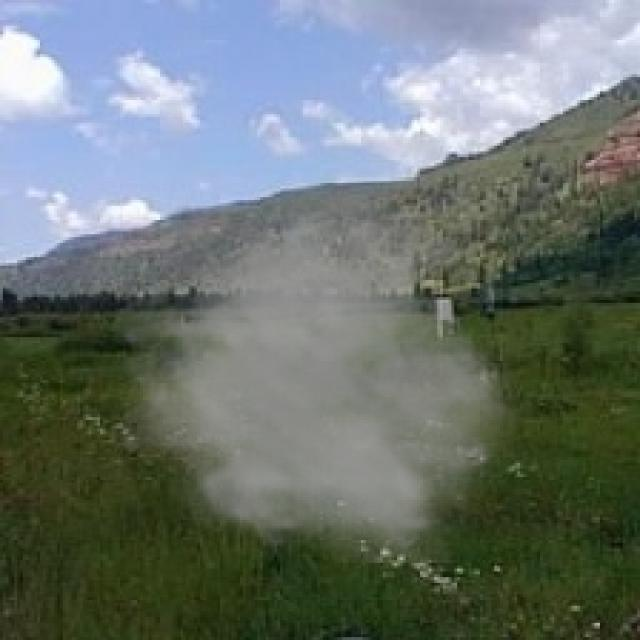smoke: (106, 174, 526, 563)
